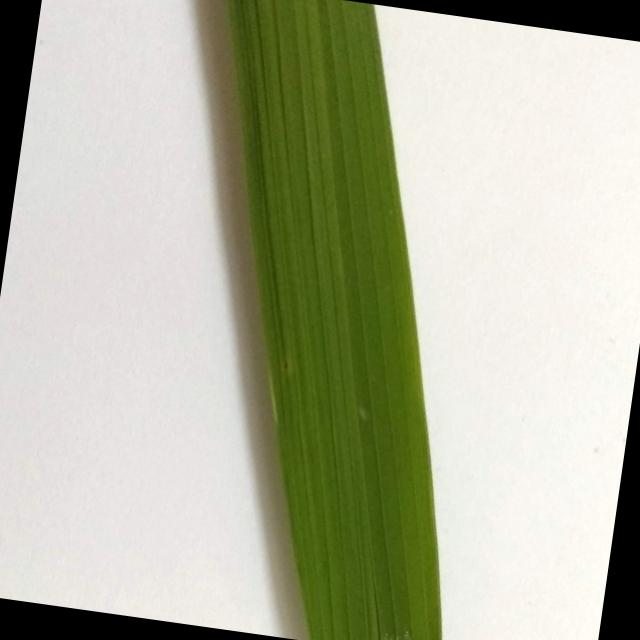Rice_Healthy: (228, 0, 441, 640)
